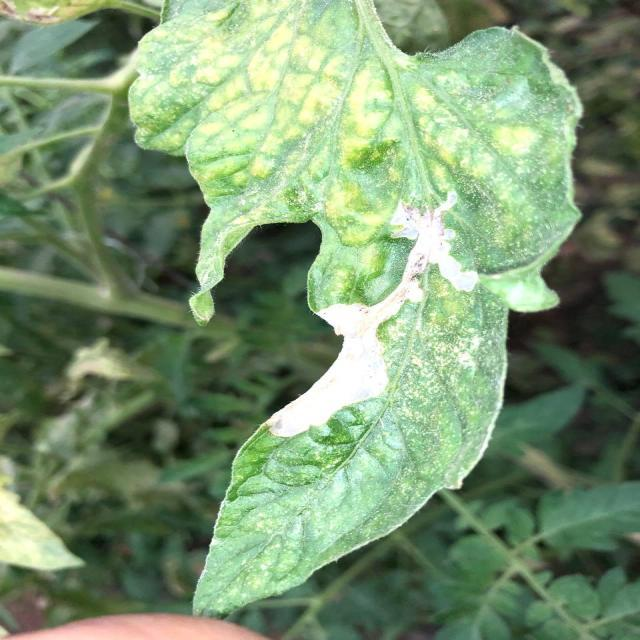Tuta absoluta: (240, 169, 513, 477)
